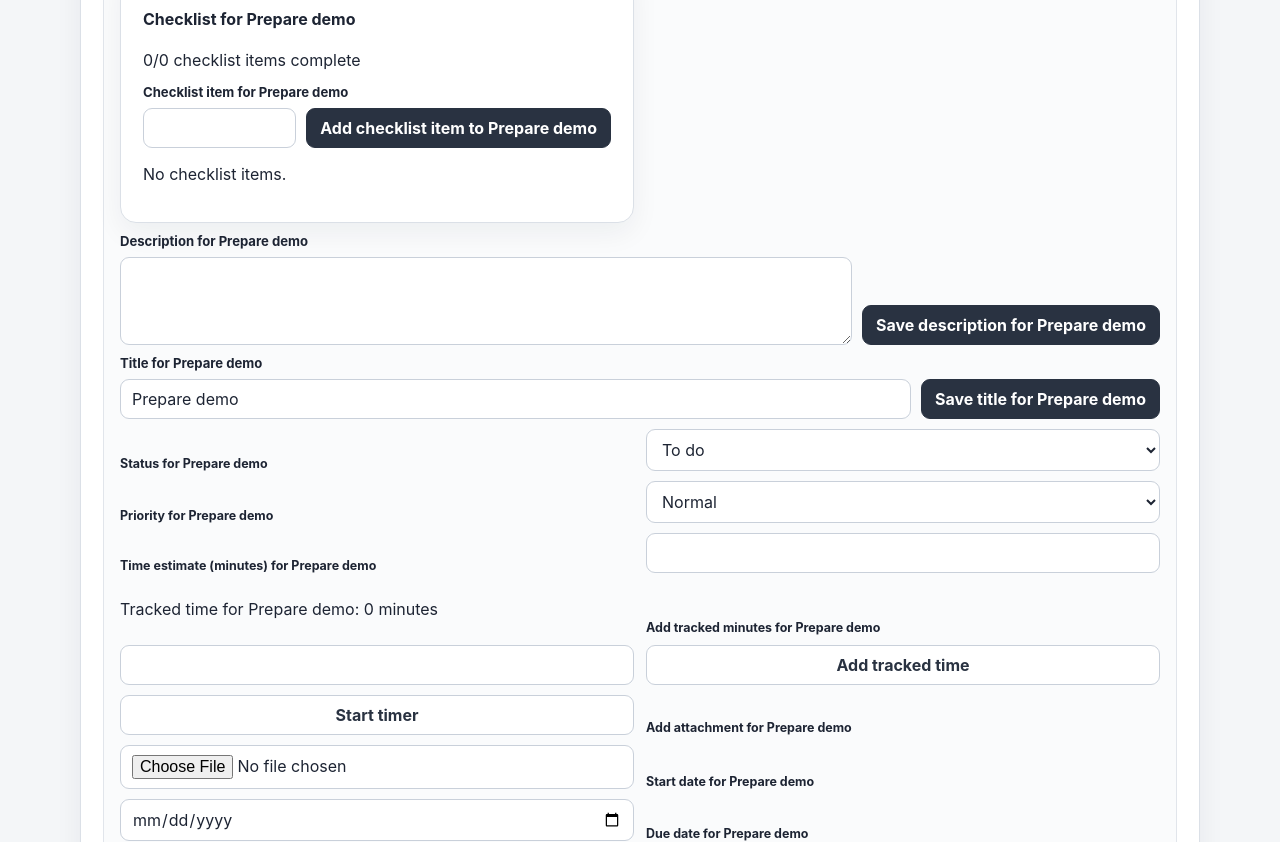
Scenario: Automation command error surface and rollback › surfaces an Automation action error without accepting partial Workspace state
The width and height of the screenshot is (1280, 842).
(page scrolled)
Select "Doing" in the dropdown labelled "Status for Prepare demo" at (903, 450), box 646,429 -> 1160,471
(page scrolled)
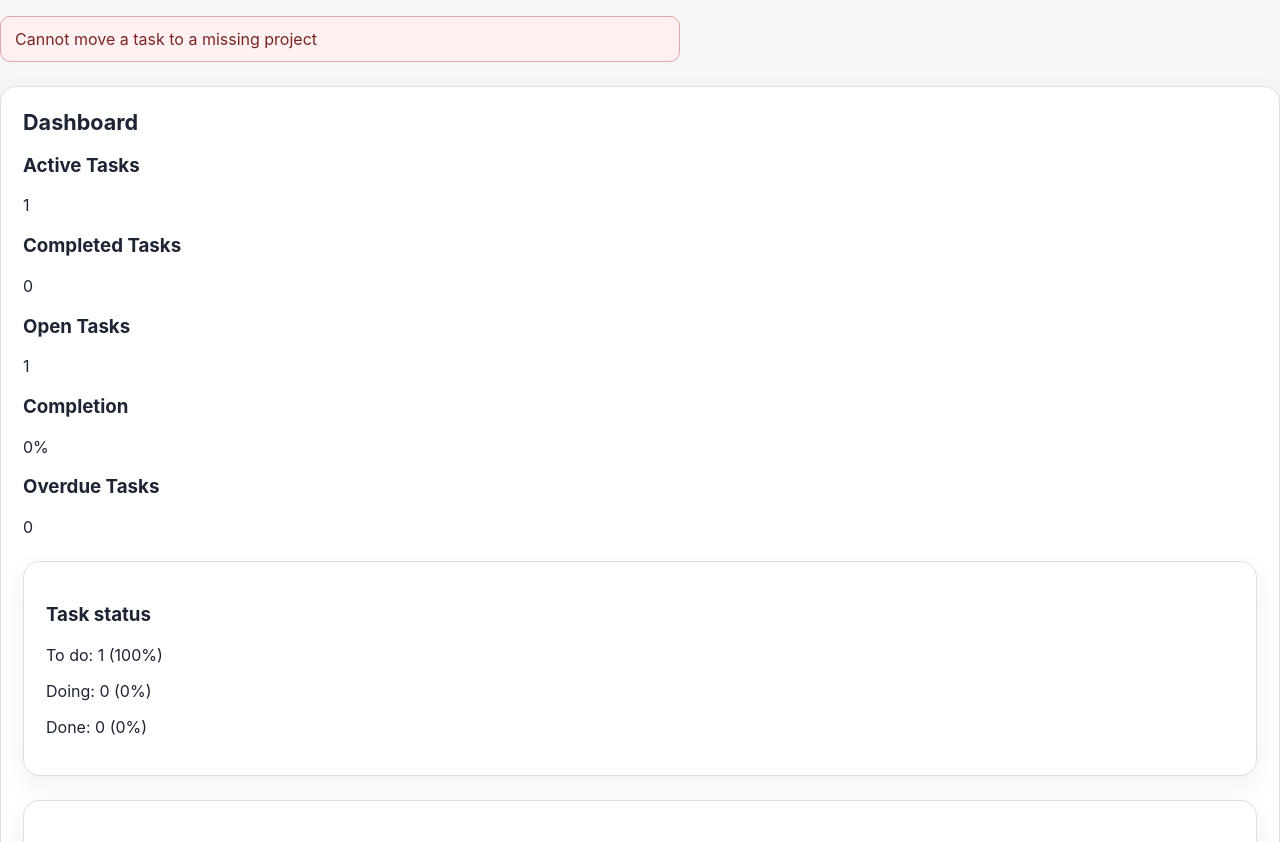
Now the message reads "Cannot move a task to a missing project", box 15,29 -> 317,49
